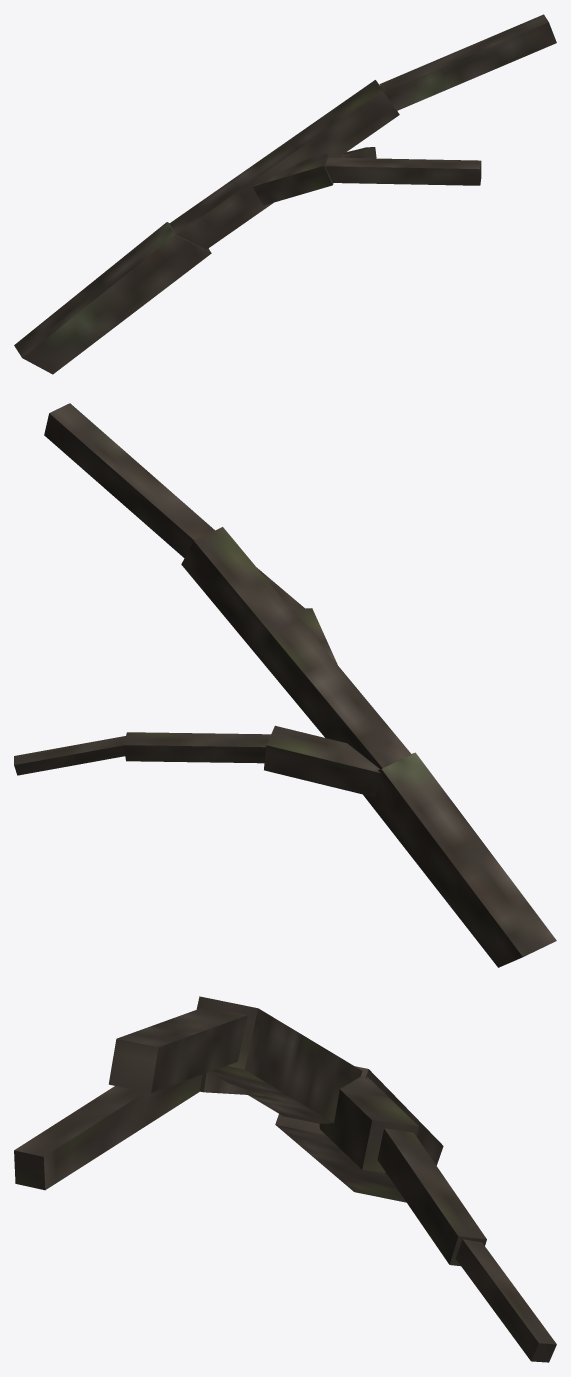
The model's file is spruce_twig_branch_up_9.obj.
3 renders of one model, top to bottom at view 1: azimuth 30°, elevation 25°; view 2: azimuth 150°, elevation 25°; view 3: azimuth 270°, elevation 25°, orthographic. The views are drawn at different scales.
Visible parts, largest first — view 1: cube; view 2: cube; view 3: cube.
Part boxes in pixels (x1,y1,x2,y2): cube: (14,14,556,374); cube: (14,403,556,967); cube: (14,996,556,1362).
Bounding box in the file's own units: 2.34 × 1.39 × 1.21.
